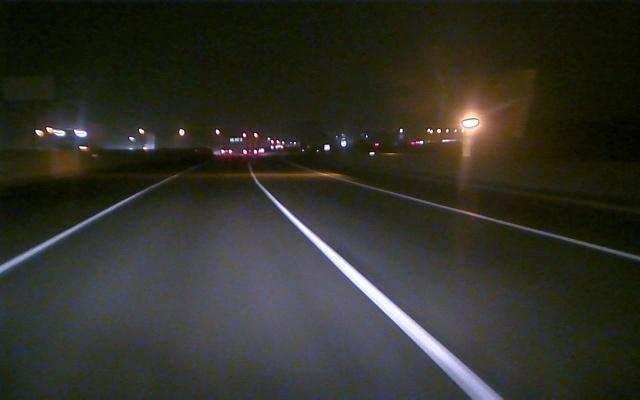lane: (264, 192, 503, 399), (412, 197, 639, 262), (0, 183, 161, 273)
